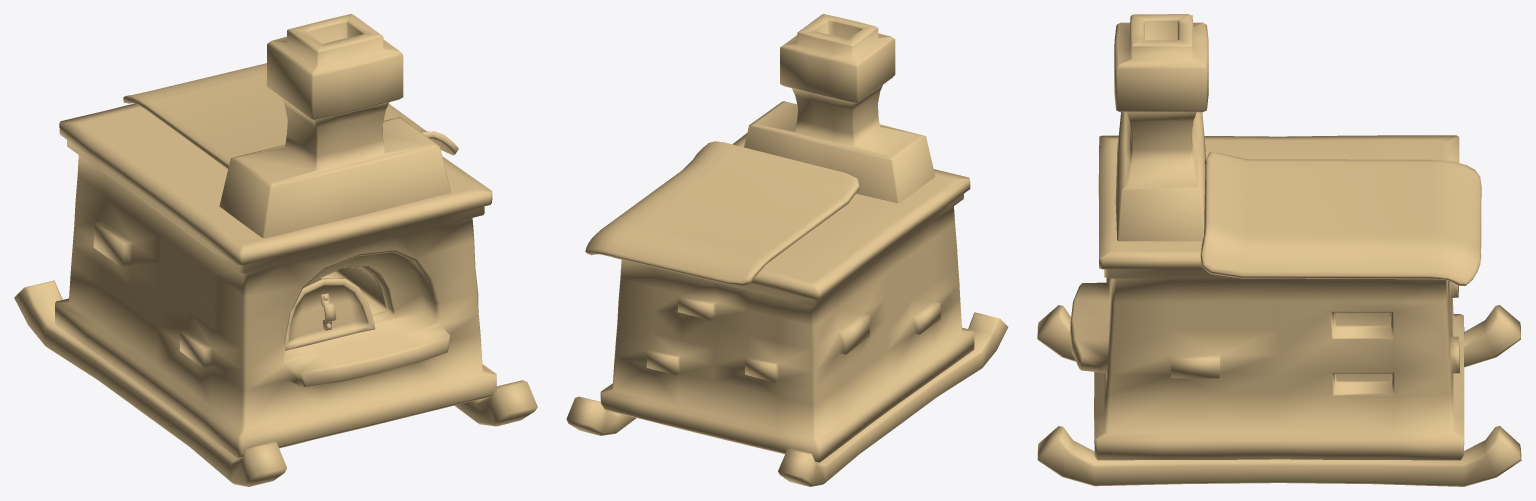
File: stove3_01.FBX
3 views of the same model, side by side, from view 1: azimuth 30°, elevation 25°; view 2: azimuth 150°, elevation 25°; view 3: azimuth 270°, elevation 25° (orthographic). The views are drawn at different scales.
Visible parts, largest first — view 1: stove3_01; view 2: stove3_01; view 3: stove3_01.
Part boxes in pixels (box(x1,y1,x2,y2)): stove3_01: box(14, 14, 537, 486); stove3_01: box(566, 14, 1008, 486); stove3_01: box(1037, 14, 1521, 486).
Bounding box in the file's own units: 32 × 41.92 × 46.88.
